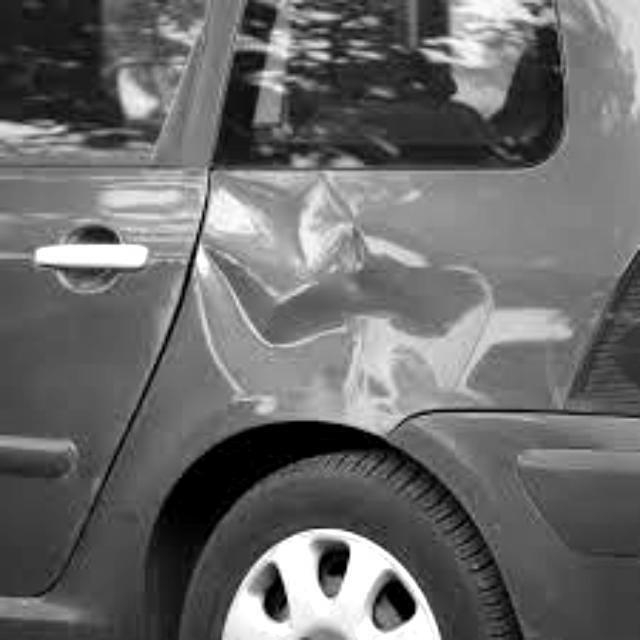quaterpanel-dent: (239, 171, 586, 452)
